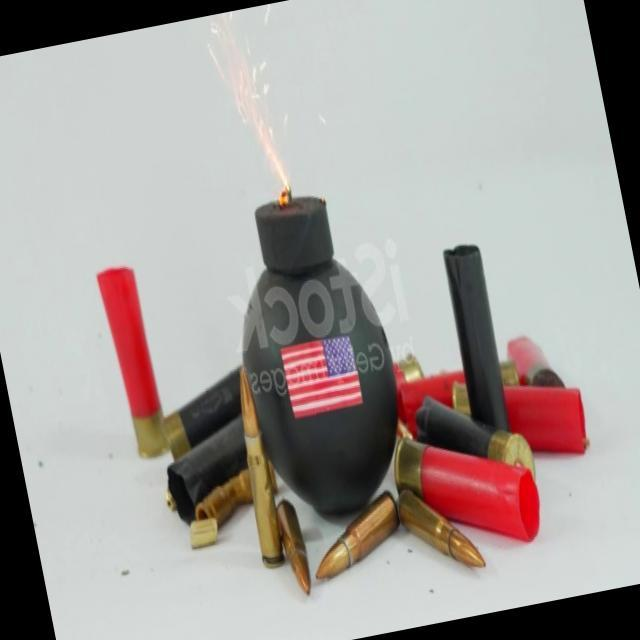grenade: (209, 184, 427, 546)
